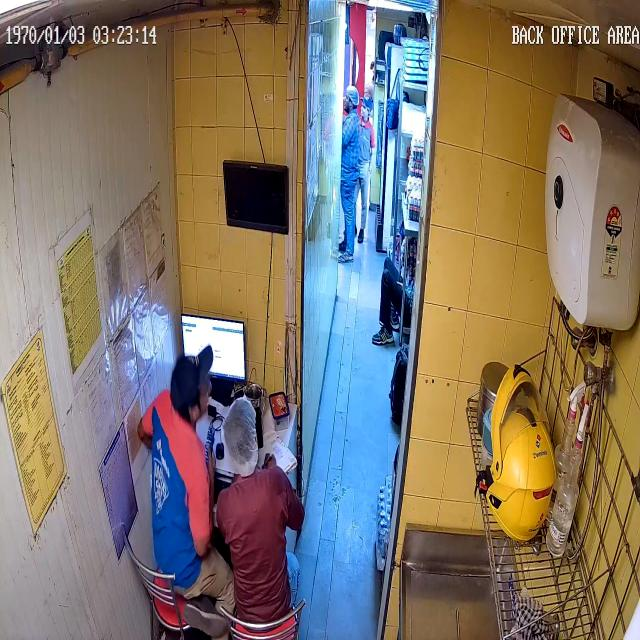helmet: (486, 364, 556, 542)
no_helmet: (170, 344, 213, 426), (223, 395, 259, 475)
